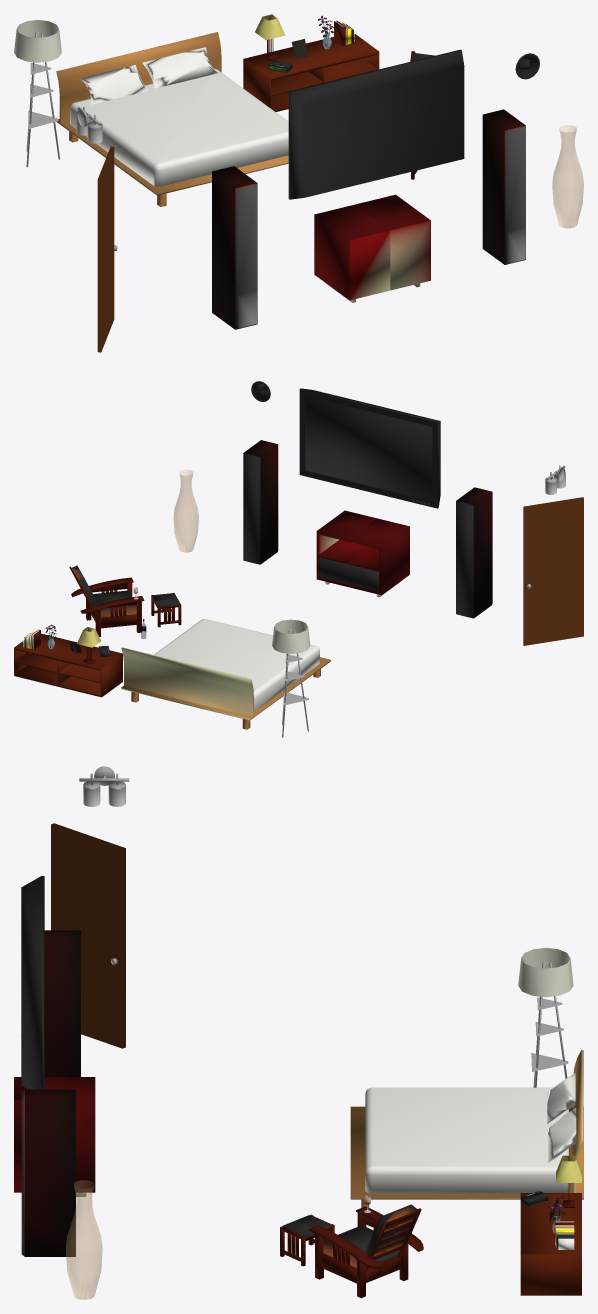
File: room_good.obj
3 renders of one model, top to bottom at view 1: azimuth 30°, elevation 25°; view 2: azimuth 150°, elevation 25°; view 3: azimuth 270°, elevation 25°, orthographic. The views are drawn at different scales.
Size of the model in its own units: 385 by 165 by 328.
